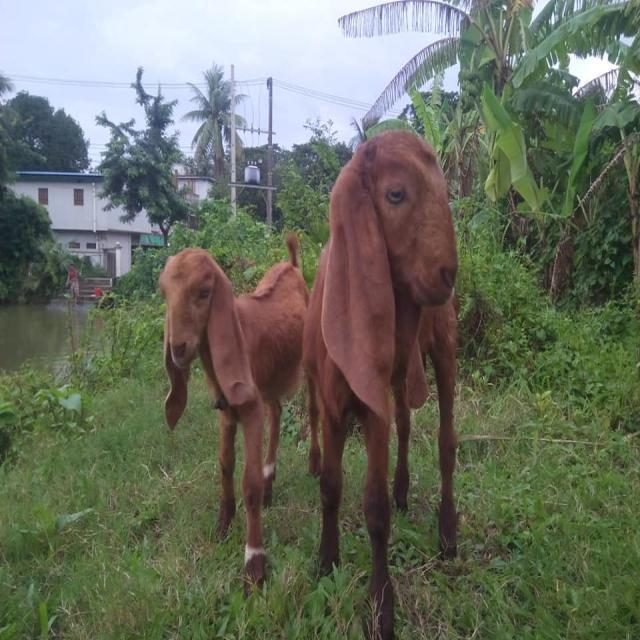Goat: (301, 128, 460, 638), (157, 230, 311, 599)
